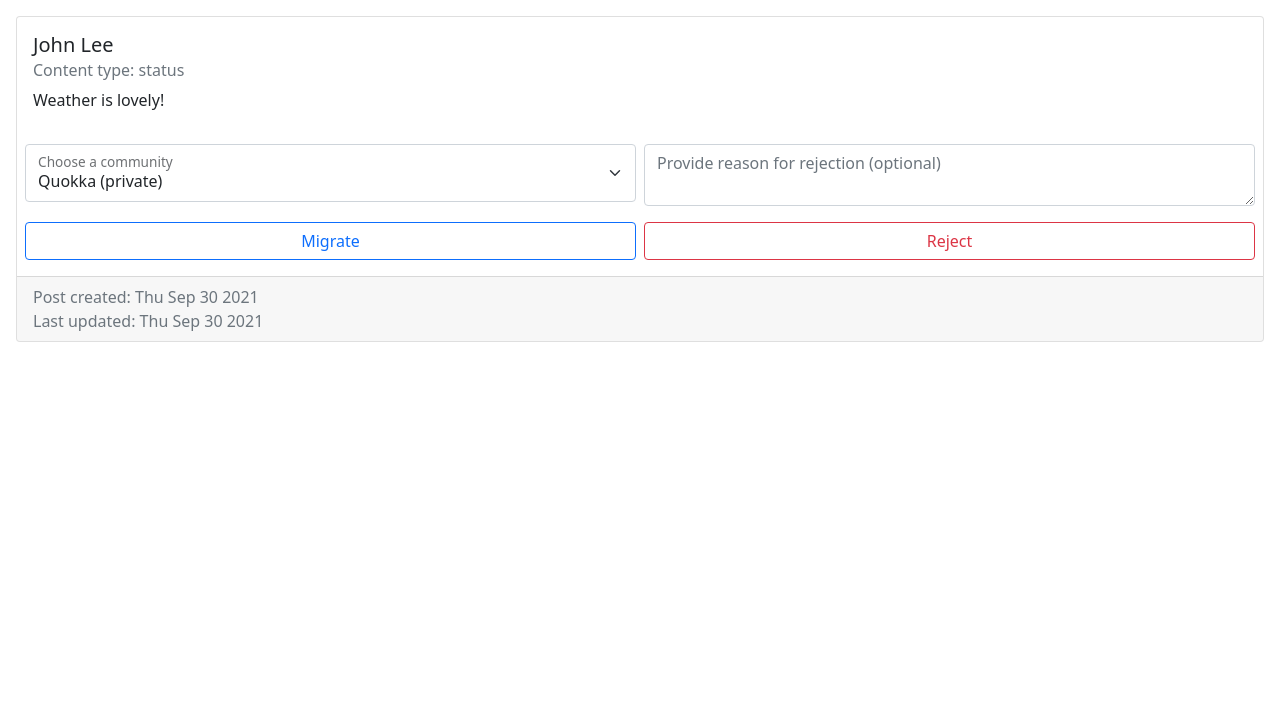
Simulating the admin clicking the Reject button of a post pending review
Click the button "Reject".
click(950, 241)  # box [644, 222, 1255, 260]
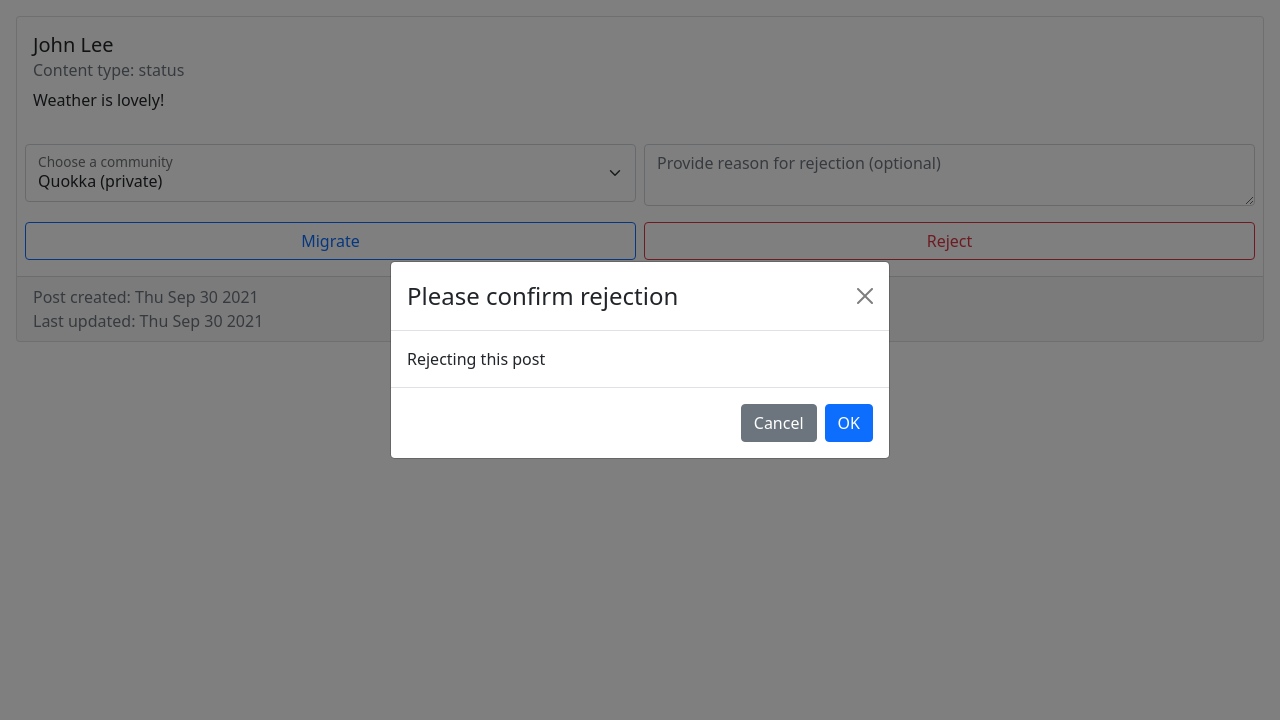
Expected: the text "Please confirm rejection" is shown, [407, 278, 678, 314]
Click the button "OK".
click(849, 423)  # box [825, 404, 873, 442]
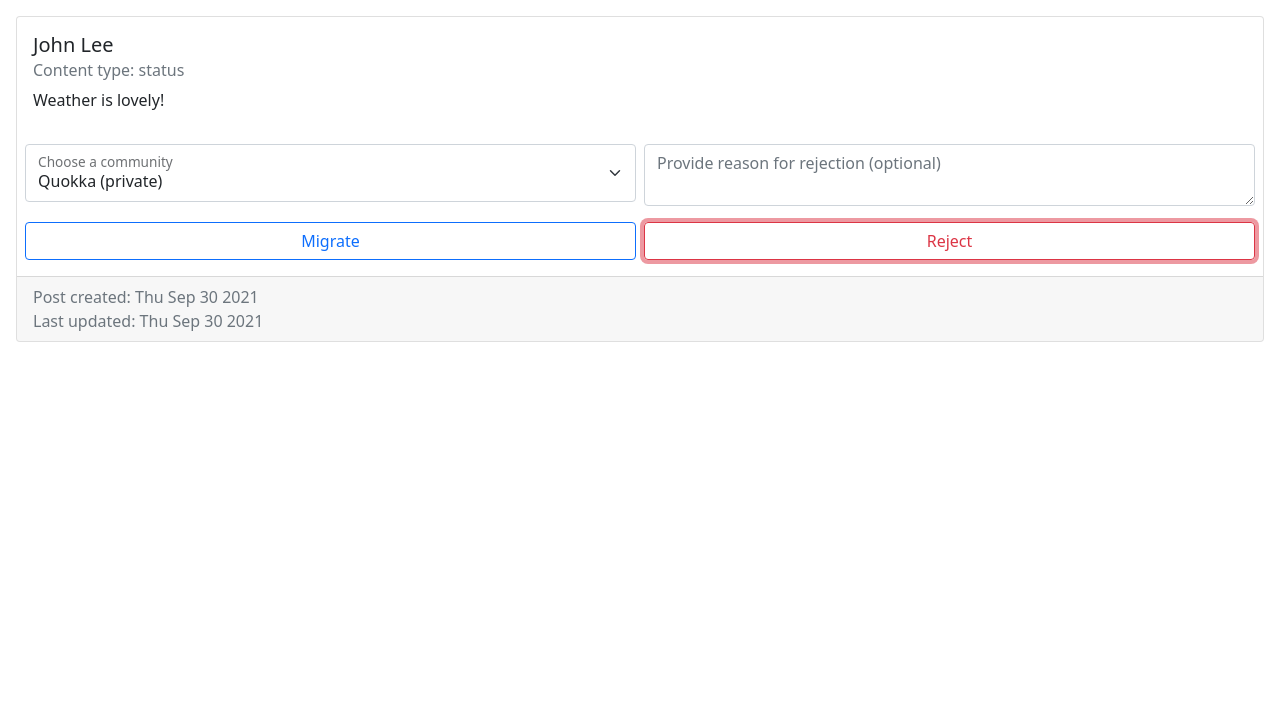
Expected: the button "Cancel" is gone
